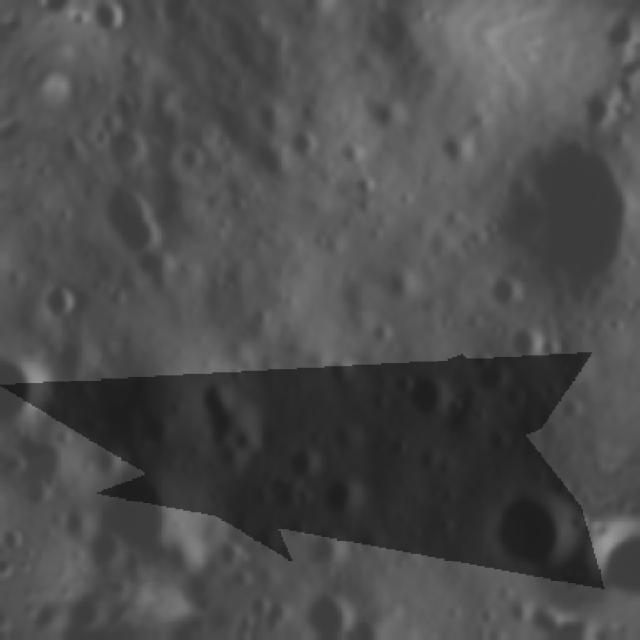crater: (452, 94, 640, 318), (84, 454, 210, 572), (480, 484, 592, 594), (170, 375, 282, 471), (86, 180, 185, 272), (0, 340, 68, 446), (396, 367, 462, 435), (30, 275, 95, 336), (295, 589, 371, 640), (237, 134, 301, 194), (293, 529, 356, 588), (93, 122, 155, 181), (317, 470, 378, 528), (424, 122, 479, 182), (371, 263, 427, 319), (480, 270, 534, 328), (278, 439, 332, 495), (79, 0, 137, 52), (138, 141, 192, 196), (468, 354, 522, 408), (498, 320, 552, 374), (360, 91, 409, 143), (572, 90, 622, 138), (206, 538, 256, 584), (172, 144, 217, 188), (320, 351, 365, 395), (218, 191, 264, 234), (358, 317, 402, 358), (518, 601, 564, 640), (386, 369, 426, 411), (348, 168, 390, 208), (46, 72, 77, 126), (0, 519, 37, 564), (462, 342, 500, 381), (242, 591, 280, 627), (384, 434, 416, 468), (71, 7, 98, 47), (227, 611, 262, 635), (512, 626, 556, 640), (399, 631, 461, 640), (0, 522, 8, 556), (0, 470, 5, 524)
